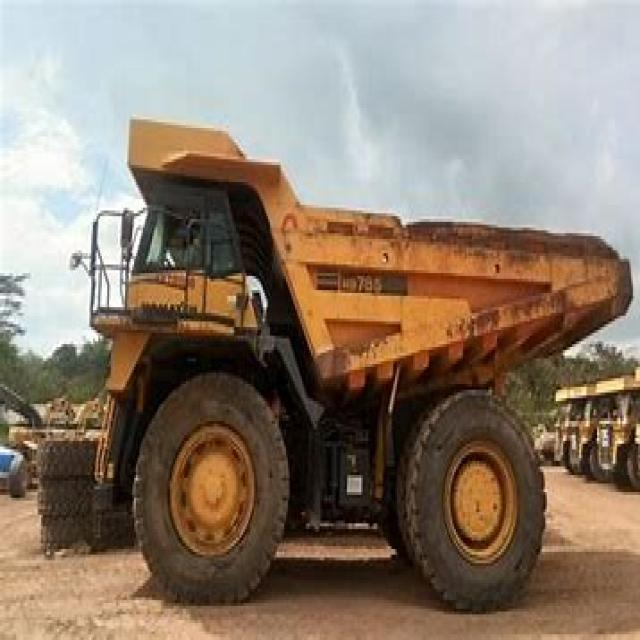dump_truck: (86, 100, 638, 620)
